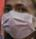with_mask: (2, 1, 36, 39)
